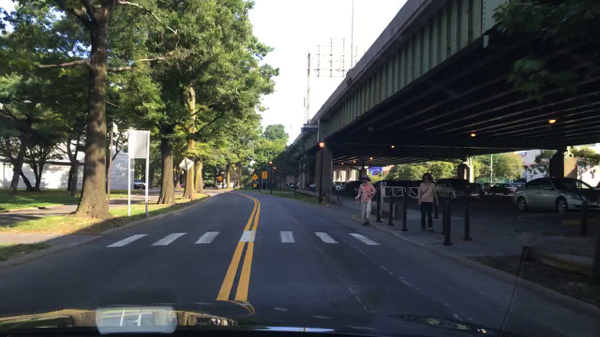car: (509, 176, 599, 214), (435, 178, 482, 200), (486, 183, 518, 195), (372, 177, 396, 193), (133, 176, 144, 190), (336, 180, 345, 193), (398, 180, 410, 189), (412, 179, 424, 187), (513, 182, 524, 190), (308, 183, 316, 191), (289, 184, 296, 189), (216, 184, 221, 190)
person: (414, 173, 440, 233), (353, 175, 377, 228)
traffic sign: (128, 129, 147, 158), (180, 158, 192, 172), (261, 171, 268, 181), (214, 176, 223, 182), (251, 176, 258, 182), (253, 184, 256, 190)
